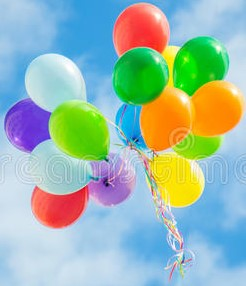Balloon: (24, 54, 88, 111), (140, 87, 195, 151), (49, 101, 110, 158), (173, 36, 229, 95), (30, 140, 91, 194), (112, 47, 169, 103), (148, 154, 205, 207), (189, 81, 243, 136), (112, 3, 170, 54)
